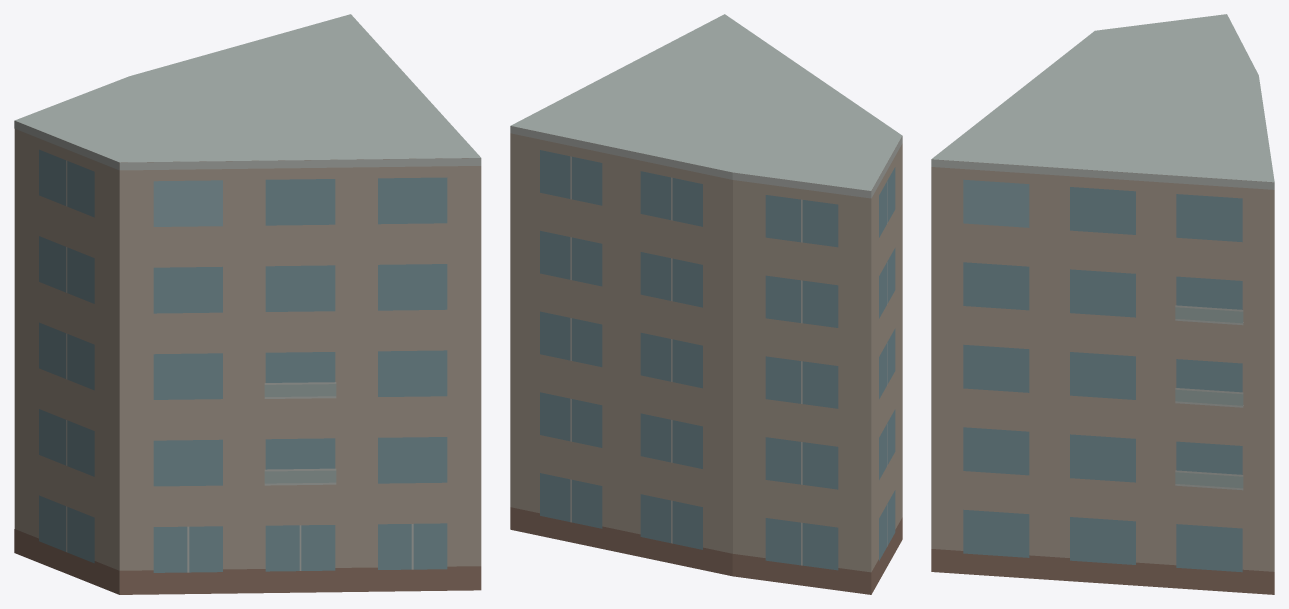
File: survey-upis-33040418.glb
3 renders of one model, left to right at view 1: azimuth 30°, elevation 25°; view 2: azimuth 150°, elevation 25°; view 3: azimuth 270°, elevation 25°, orthographic. The views are drawn at different scales.
Visible parts, largest first — view 1: survey-upis-33040418.tmp; view 2: survey-upis-33040418.tmp; view 3: survey-upis-33040418.tmp.
Boxes of the visible parts, x1,y1,x2,y2 form: survey-upis-33040418.tmp: [14, 14, 481, 594]; survey-upis-33040418.tmp: [510, 14, 902, 594]; survey-upis-33040418.tmp: [931, 14, 1274, 594].
Size of the model in its own units: 11.56 by 13.2 by 9.97.
